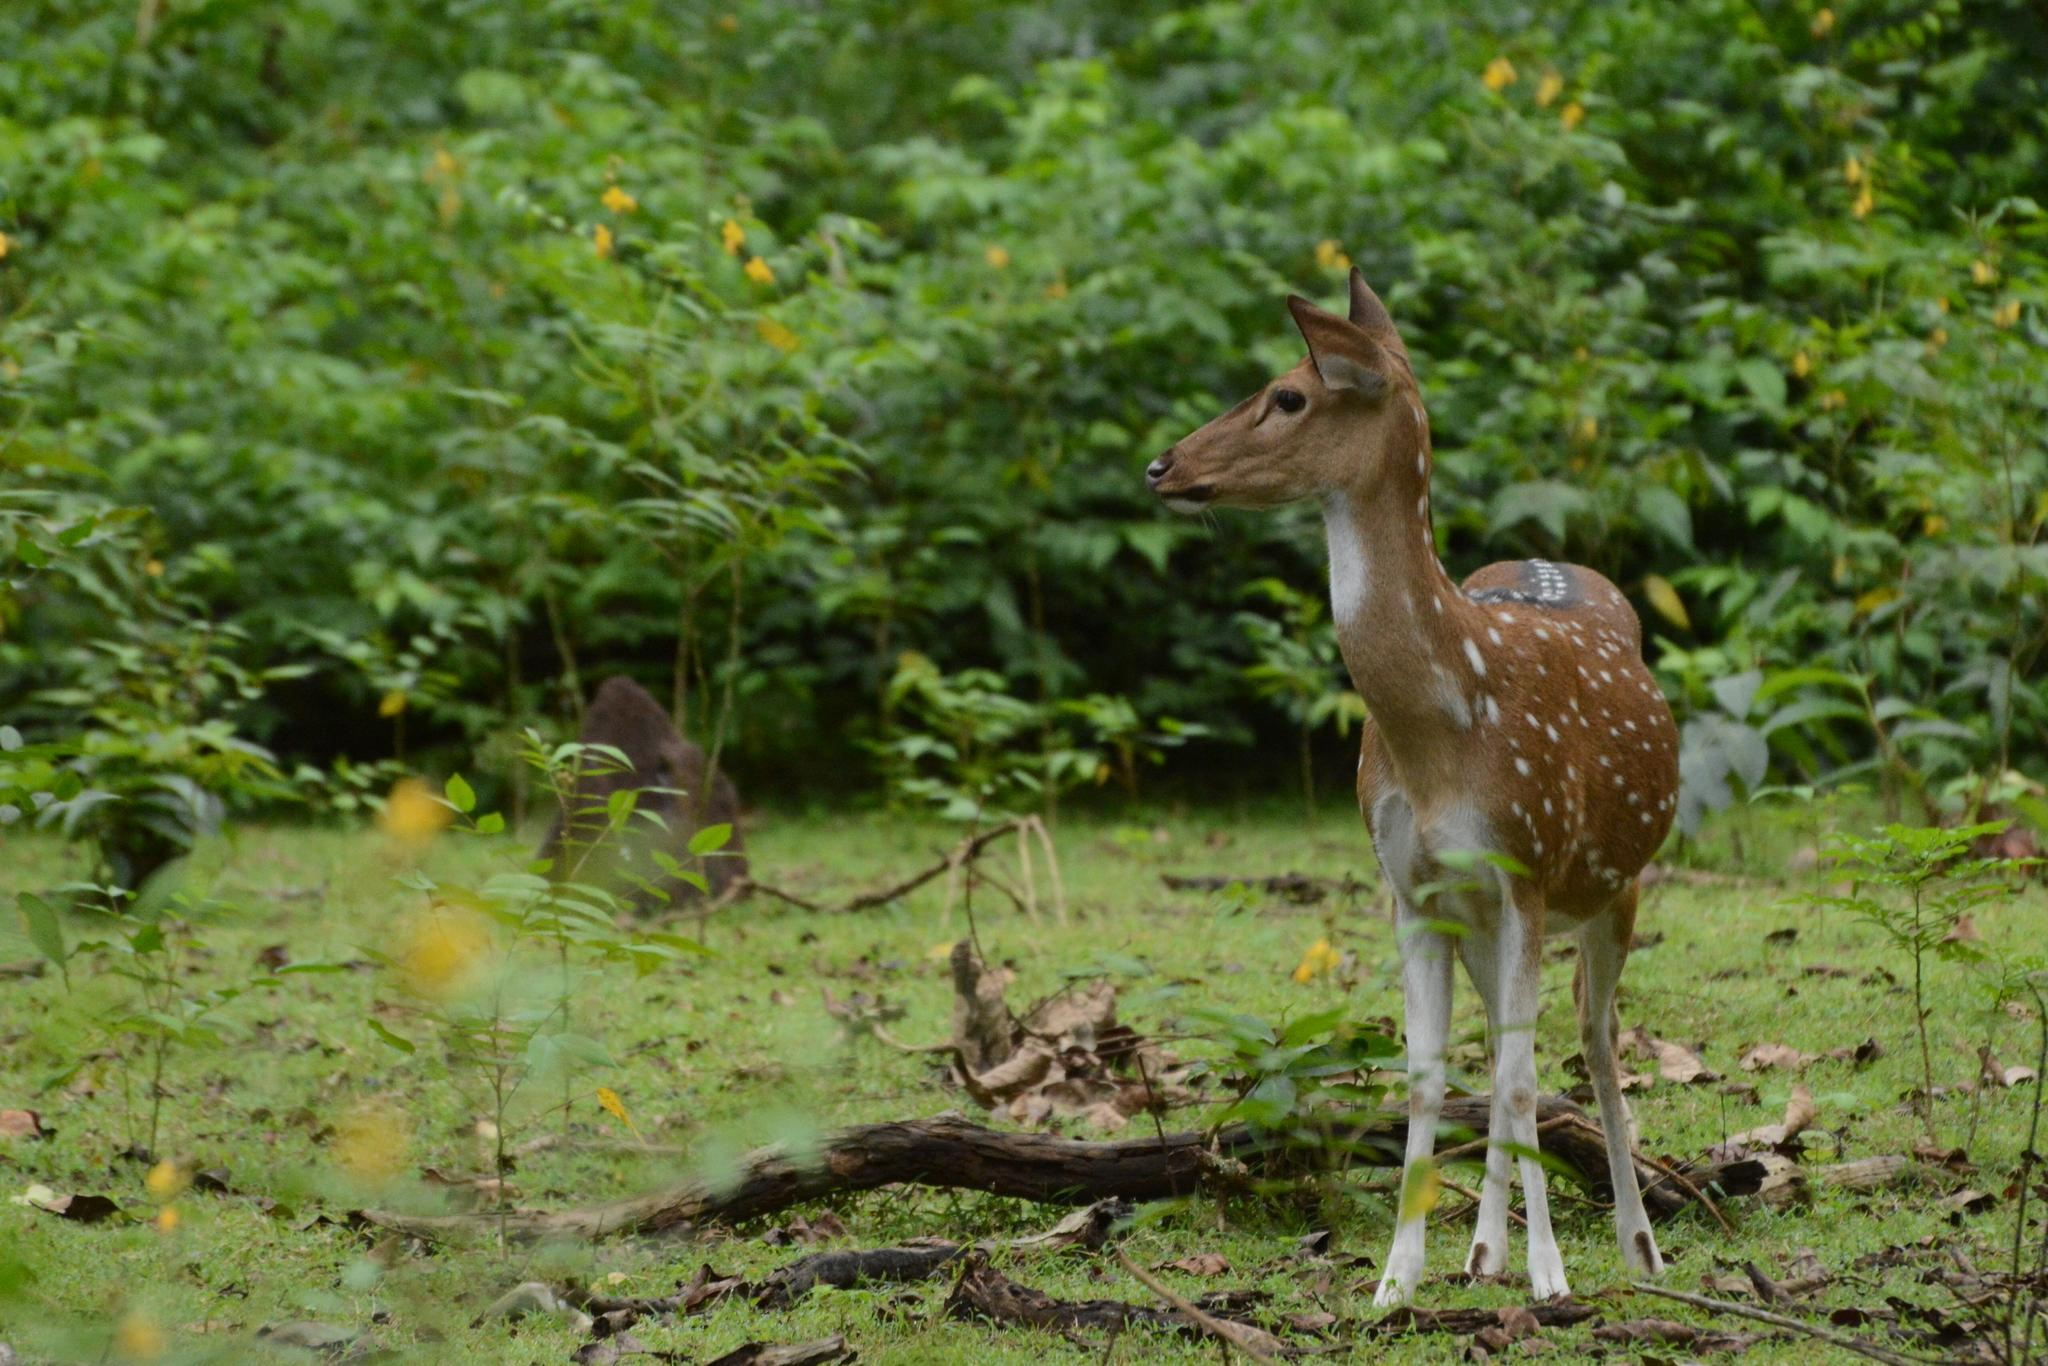Deer: (1146, 268, 1679, 1303)
